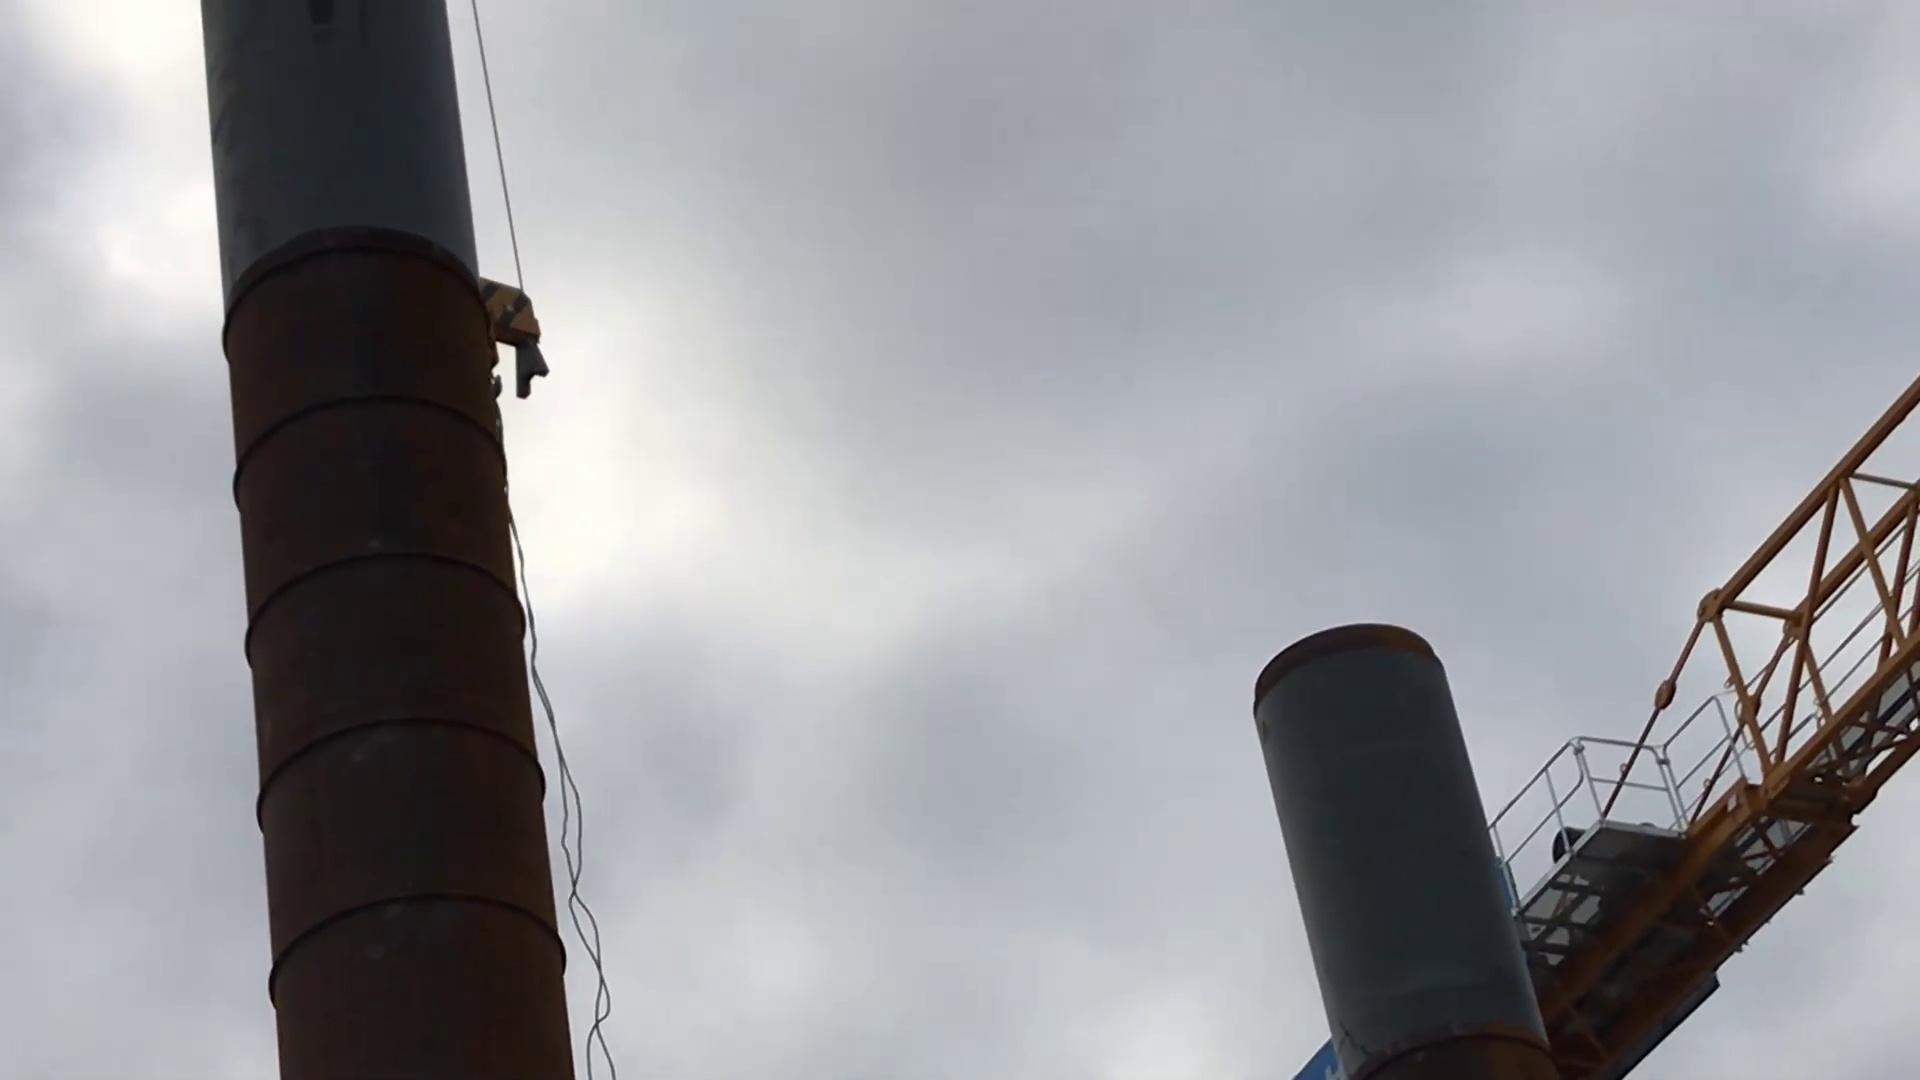hook: (467, 265, 559, 398)
